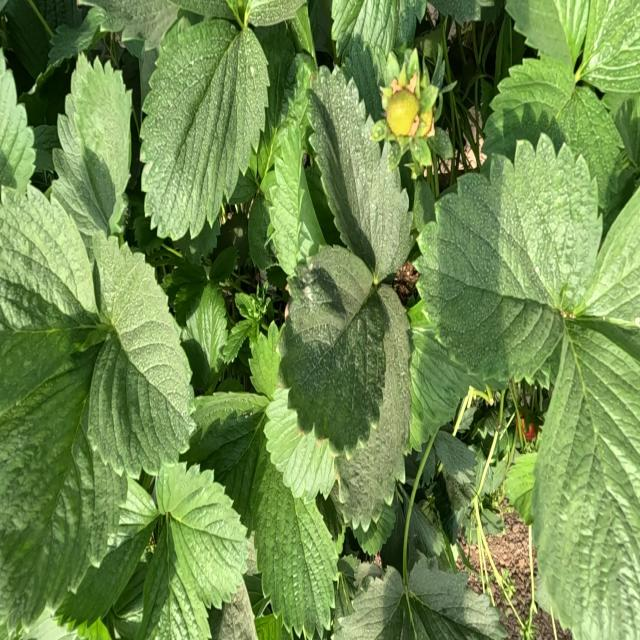Leaves: (420, 136, 601, 386), (0, 352, 123, 628), (532, 329, 639, 639), (143, 18, 268, 237), (85, 237, 191, 476), (0, 186, 110, 414), (308, 69, 410, 279), (281, 252, 386, 450), (338, 301, 411, 526), (251, 453, 338, 635), (62, 479, 159, 623), (53, 59, 131, 233), (335, 559, 500, 639), (161, 465, 248, 607), (245, 25, 315, 194), (137, 515, 210, 639), (484, 57, 572, 156), (268, 125, 323, 276), (408, 556, 507, 639), (557, 88, 623, 210), (265, 387, 335, 499), (407, 305, 468, 432), (584, 188, 639, 321), (185, 392, 268, 479), (0, 0, 82, 80), (505, 1, 598, 67), (331, 0, 425, 61), (582, 1, 639, 95), (332, 567, 404, 639), (181, 283, 227, 389), (83, 1, 180, 50), (1, 56, 35, 192), (222, 290, 271, 367), (345, 34, 386, 119), (277, 52, 315, 130), (211, 582, 257, 639), (48, 14, 100, 64), (352, 504, 396, 556), (250, 325, 280, 400), (505, 452, 536, 523), (176, 220, 220, 263), (248, 195, 273, 270), (411, 508, 447, 557), (435, 431, 475, 475), (247, 0, 304, 27), (430, 1, 492, 24), (33, 124, 60, 172), (163, 261, 207, 289), (209, 245, 237, 283)
Strawberries: (387, 90, 418, 136), (521, 418, 536, 441)
